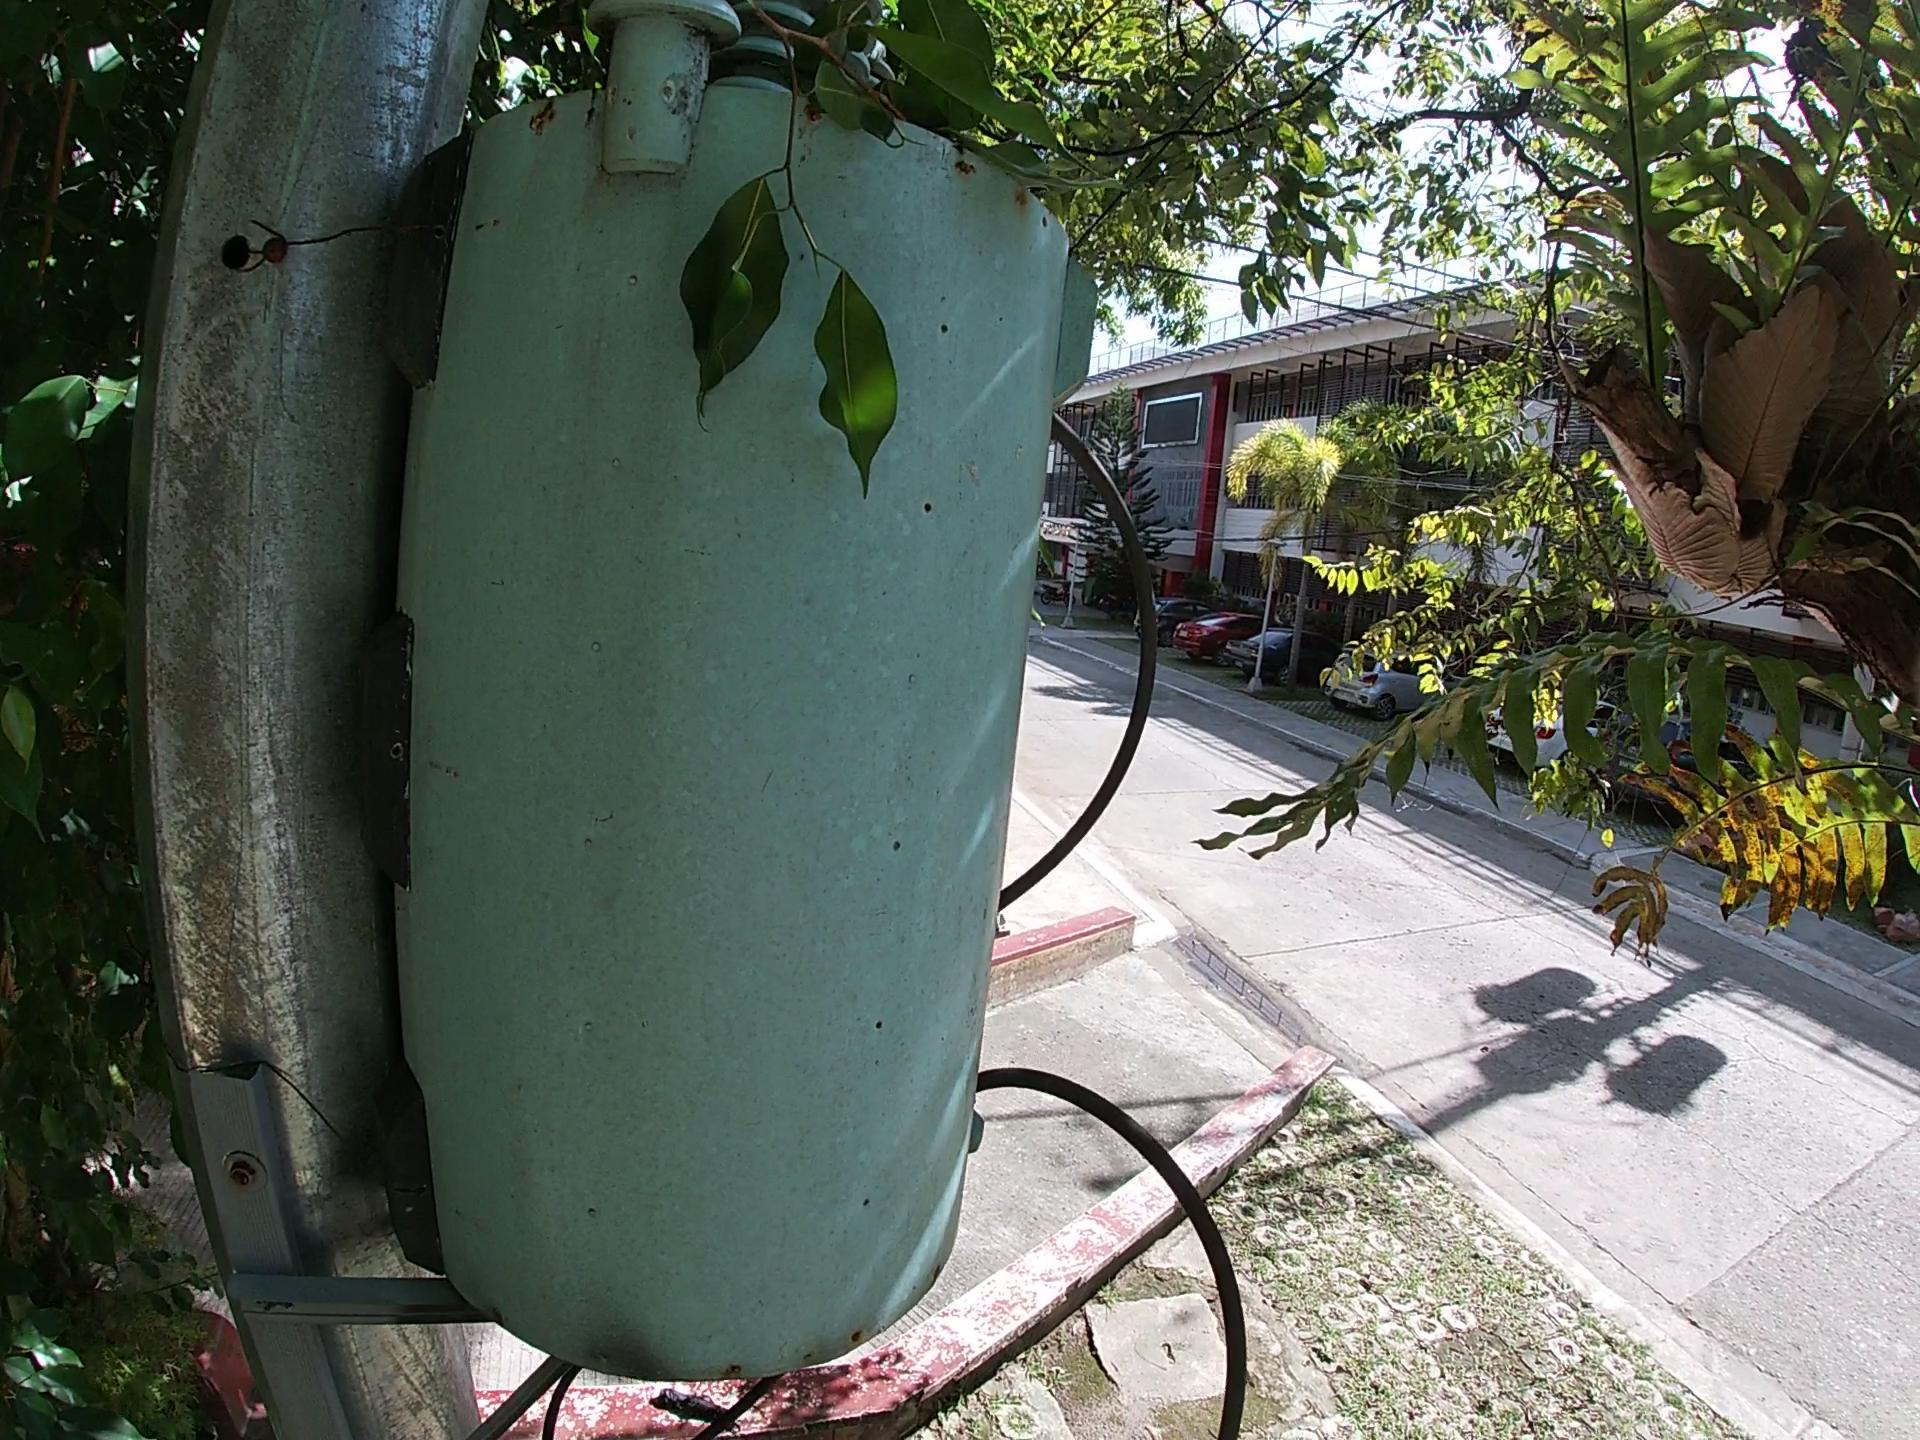branch with leaves: (662, 2, 1120, 558)
